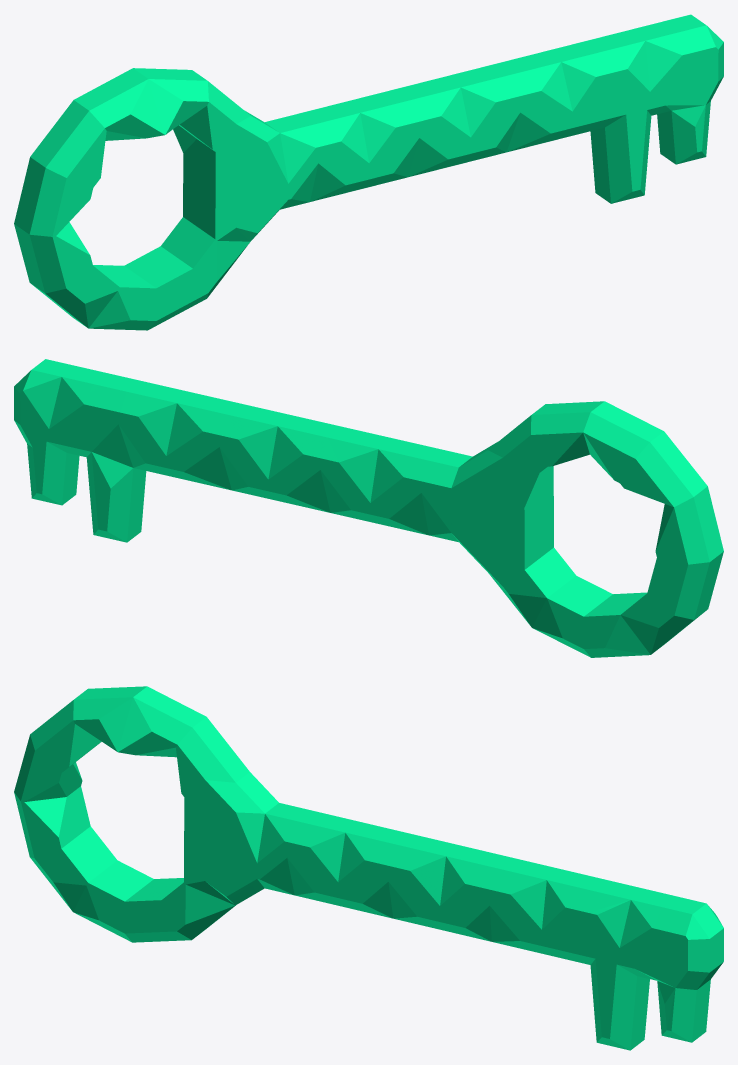
Rendered from green_key.glb.
3 views of the same model, one above another, from view 1: azimuth 30°, elevation 25°; view 2: azimuth 150°, elevation 25°; view 3: azimuth 330°, elevation 25° (orthographic). The views are drawn at different scales.
Parts seen in each view (by area): view 1: Circle.026; view 2: Circle.026; view 3: Circle.026.
Boxes of the visible parts, bbox=[...] form: Circle.026: bbox=[14, 14, 723, 330]; Circle.026: bbox=[14, 359, 723, 657]; Circle.026: bbox=[14, 686, 723, 1050].
Size of the model in its own units: 1.89 by 0.6454 by 0.2163.
1 material, 1 textured.
